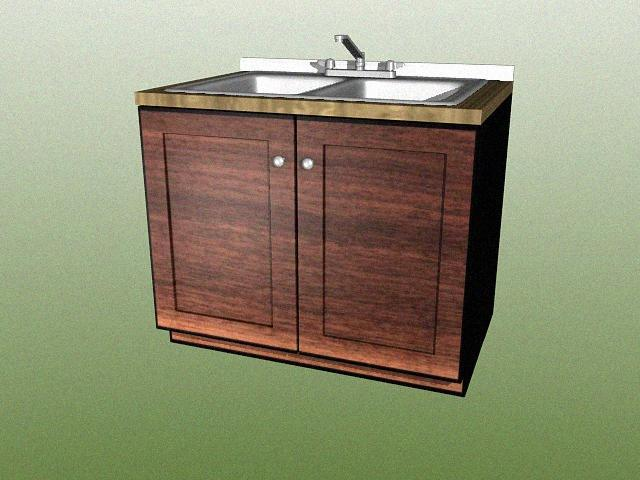cabinet_door: (296, 121, 470, 369), (146, 110, 296, 342)
handle: (268, 149, 288, 175), (297, 151, 317, 176)
